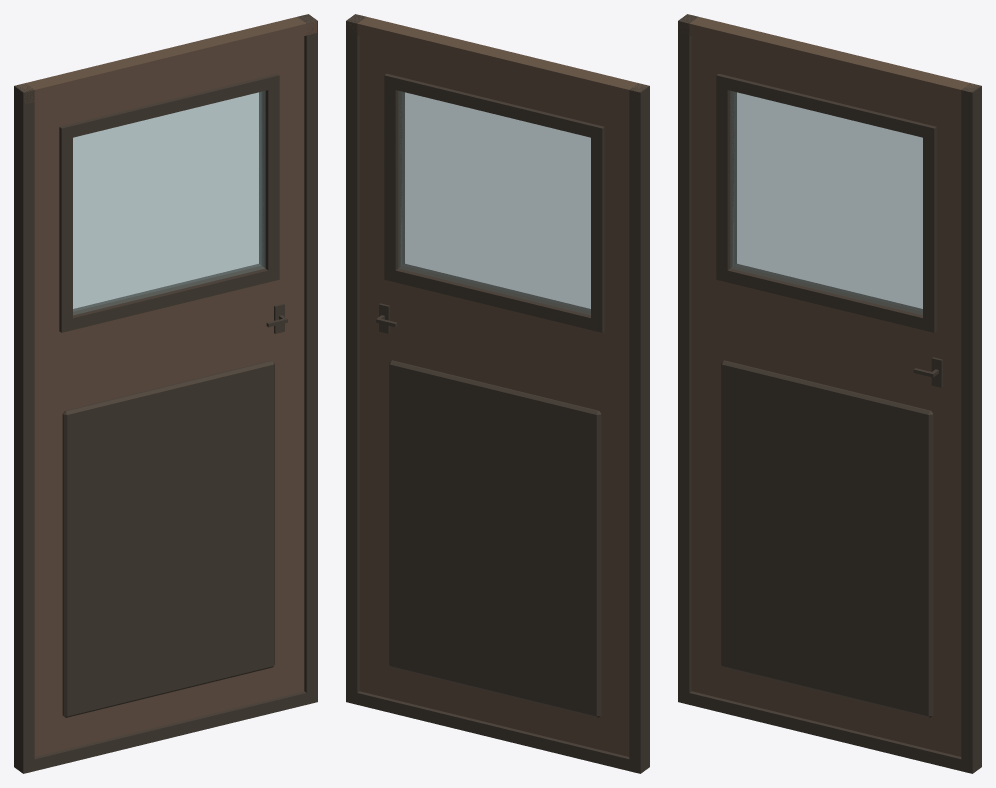
Rendered from Door.fbx.
The picture shows the model from 3 angles, left to right: view 1: azimuth 30°, elevation 25°; view 2: azimuth 150°, elevation 25°; view 3: azimuth 330°, elevation 25°; orthographic projection.
Parts seen in each view (by area): view 1: pCube17, pCube11, pCube18, pCube2, pCube3, pCube4, pCube8, pCube7, pCube9, pCube6, pCube10; view 2: pCube17, pCube11, pCube18, pCube2, pCube3, pCube4, pCube8, pCube7, pCube9, pCube6, pCube10; view 3: pCube17, pCube11, pCube18, pCube3, pCube2, pCube4, pCube8, pCube7, pCube10, pCube6, pCube9.
Boxes of the visible parts, <box> form: pCube17: <box>34,36,304,756</box>; pCube11: <box>62,360,274,717</box>; pCube18: <box>73,91,265,314</box>; pCube2: <box>14,84,34,773</box>; pCube3: <box>298,14,317,704</box>; pCube4: <box>16,15,316,103</box>; pCube8: <box>73,264,268,329</box>; pCube7: <box>34,690,316,770</box>; pCube9: <box>259,73,279,282</box>; pCube6: <box>71,76,268,137</box>; pCube10: <box>59,124,72,332</box>; pCube17: <box>359,36,629,756</box>; pCube11: <box>389,360,601,717</box>; pCube18: <box>398,91,590,314</box>; pCube2: <box>629,84,649,773</box>; pCube3: <box>346,14,366,704</box>; pCube4: <box>347,14,647,101</box>; pCube8: <box>395,264,590,329</box>; pCube7: <box>347,690,629,770</box>; pCube9: <box>384,73,404,282</box>; pCube6: <box>395,76,592,137</box>; pCube10: <box>591,124,604,332</box>; pCube17: <box>691,36,961,756</box>; pCube11: <box>721,360,933,717</box>; pCube18: <box>730,91,922,314</box>; pCube3: <box>961,84,981,773</box>; pCube2: <box>678,14,698,704</box>; pCube4: <box>679,14,979,101</box>; pCube8: <box>727,264,922,329</box>; pCube7: <box>679,690,961,770</box>; pCube10: <box>716,73,736,282</box>; pCube6: <box>727,76,924,137</box>; pCube9: <box>923,124,936,332</box>.
Size of the model in its own units: 90.5 by 200 by 10.
